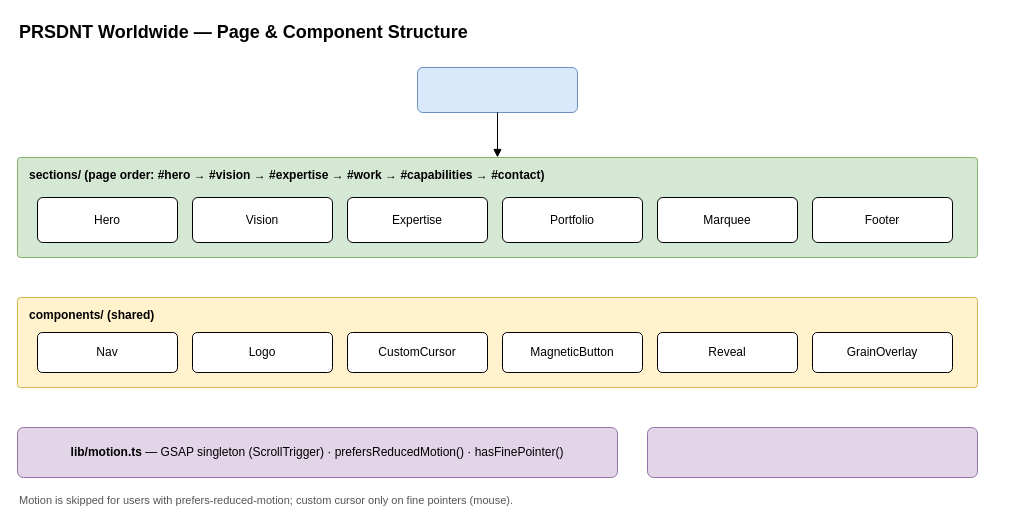
Some shapes in this 1035 by 529 pixel diagram are drawn without their labels. The centre of each missing label's shape, as x and y in pixels:
App.tsx: [497,89]
index.css — design tokens (@theme), reduced-motion kill switch: [812,452]
